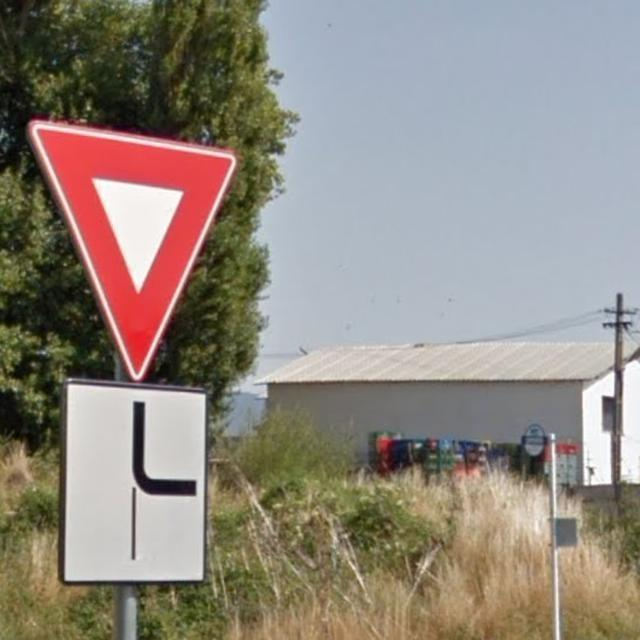prio_give_way: (24, 118, 237, 378)
